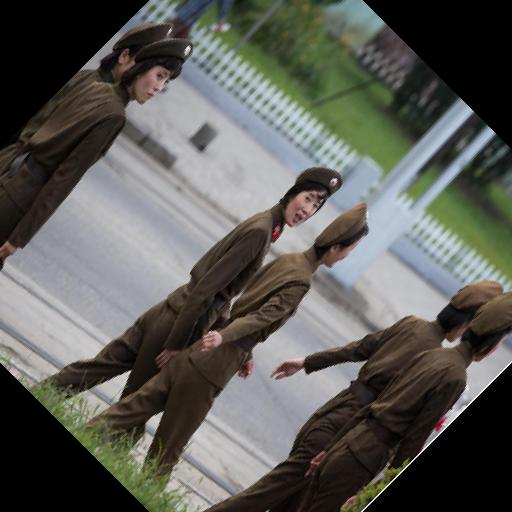north army: (391, 232, 512, 512), (214, 120, 299, 488), (25, 14, 128, 313)
